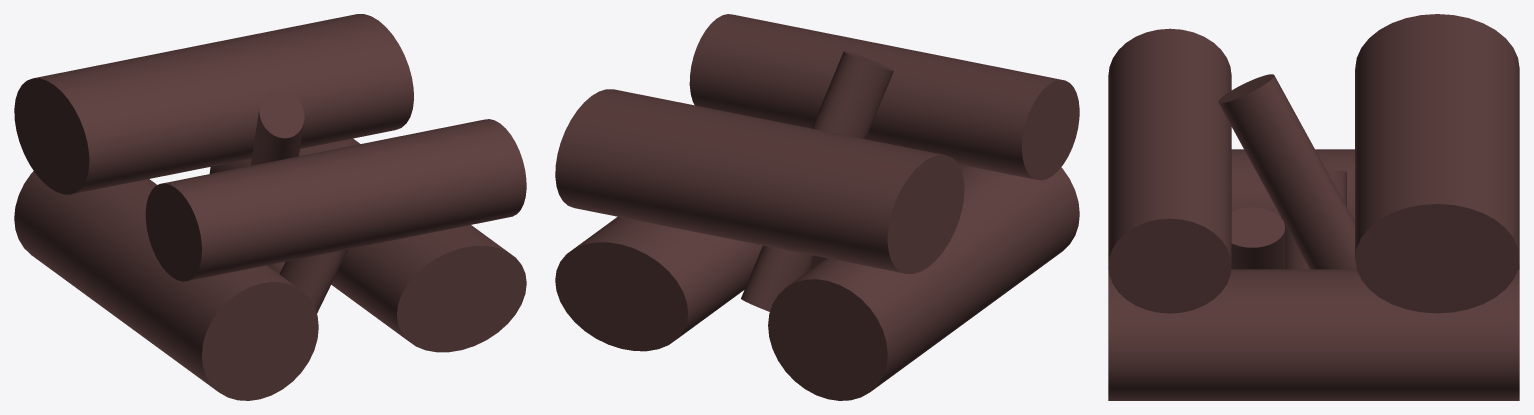
Rendered from fireplace.glb.
The picture shows the model from 3 angles, left to right: view 1: azimuth 30°, elevation 25°; view 2: azimuth 150°, elevation 25°; view 3: azimuth 270°, elevation 25°; orthographic projection. The views are drawn at different scales.
Parts seen in each view (by area): view 1: Cylinder.002, Cylinder.003, Cylinder.001, Cylinder, Cylinder.006, Cylinder.005; view 2: Cylinder.002, Cylinder.003, Cylinder.001, Cylinder, Cylinder.006; view 3: Cylinder.002, Cylinder, Cylinder.003, Cylinder.006, Cylinder.005, Cylinder.001, Cylinder.004.
Boxes of the visible parts, <box> form: Cylinder.002: <box>14,14,413,194</box>; Cylinder.003: <box>145,119,526,281</box>; Cylinder.001: <box>14,171,318,400</box>; Cylinder: <box>209,138,526,352</box>; Cylinder.006: <box>250,89,304,165</box>; Cylinder.005: <box>279,249,347,313</box>; Cylinder.002: <box>555,89,964,273</box>; Cylinder.003: <box>689,14,1079,180</box>; Cylinder.001: <box>768,164,1079,400</box>; Cylinder: <box>555,217,762,351</box>; Cylinder.006: <box>741,51,893,311</box>; Cylinder.002: <box>1355,14,1519,313</box>; Cylinder: <box>1108,269,1519,400</box>; Cylinder.003: <box>1108,28,1231,313</box>; Cylinder.006: <box>1218,74,1356,269</box>; Cylinder.005: <box>1231,207,1285,269</box>; Cylinder.001: <box>1108,149,1519,269</box>; Cylinder.004: <box>1281,170,1346,269</box>.
Bounding box in the file's own units: 1.01 × 0.6863 × 1.
